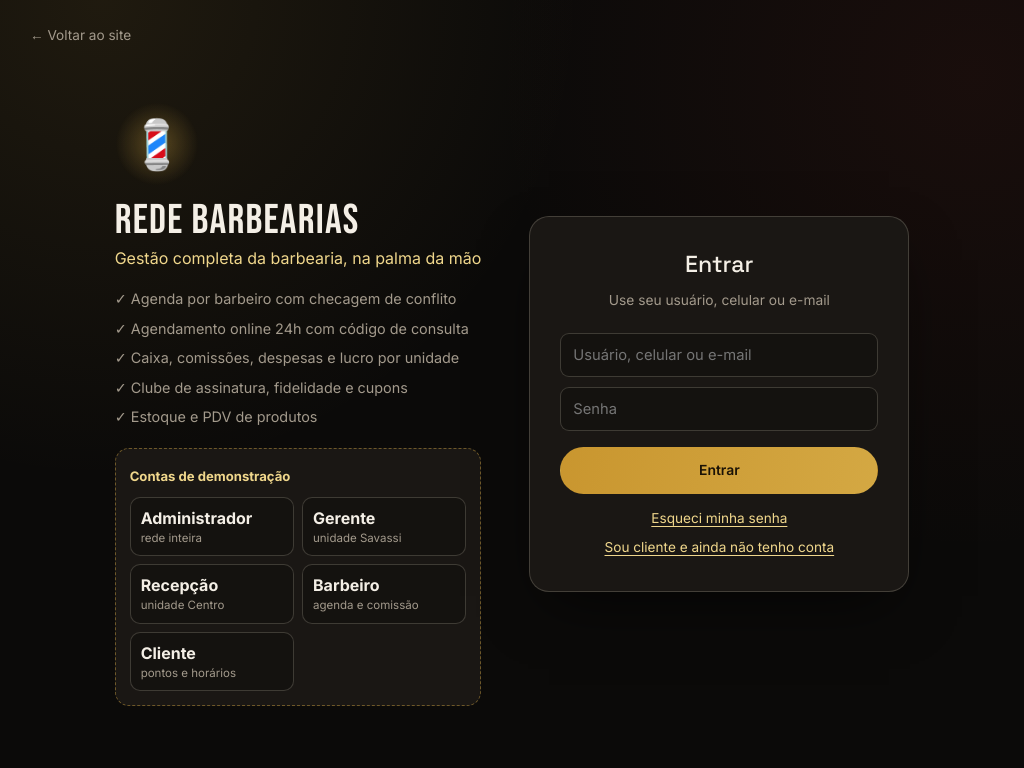
Scenario: Login › mostra contas demo e o erro do servidor
Expected: the text "Contas de demonstração" is shown, [130, 468, 290, 484]
Type "x" into the field with placeholder "Usuário, celular ou e-mail" at (719,355), box [560, 333, 878, 377]
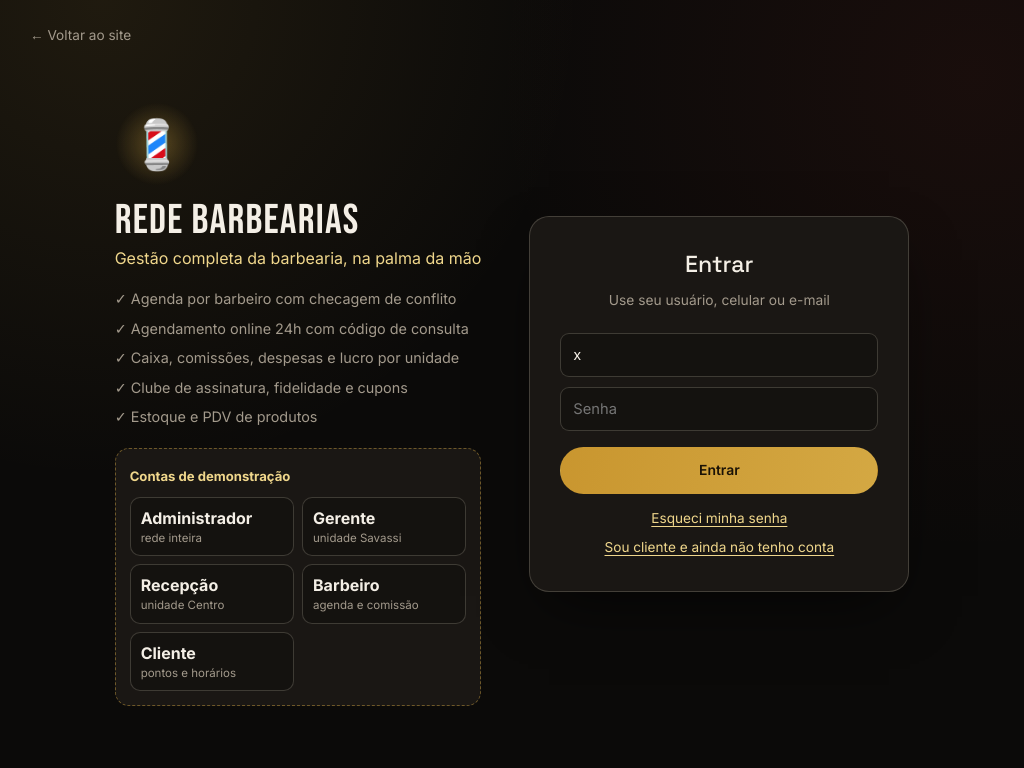
Type "y" into the password field with placeholder "Senha" at (719,409), box [560, 387, 878, 431]
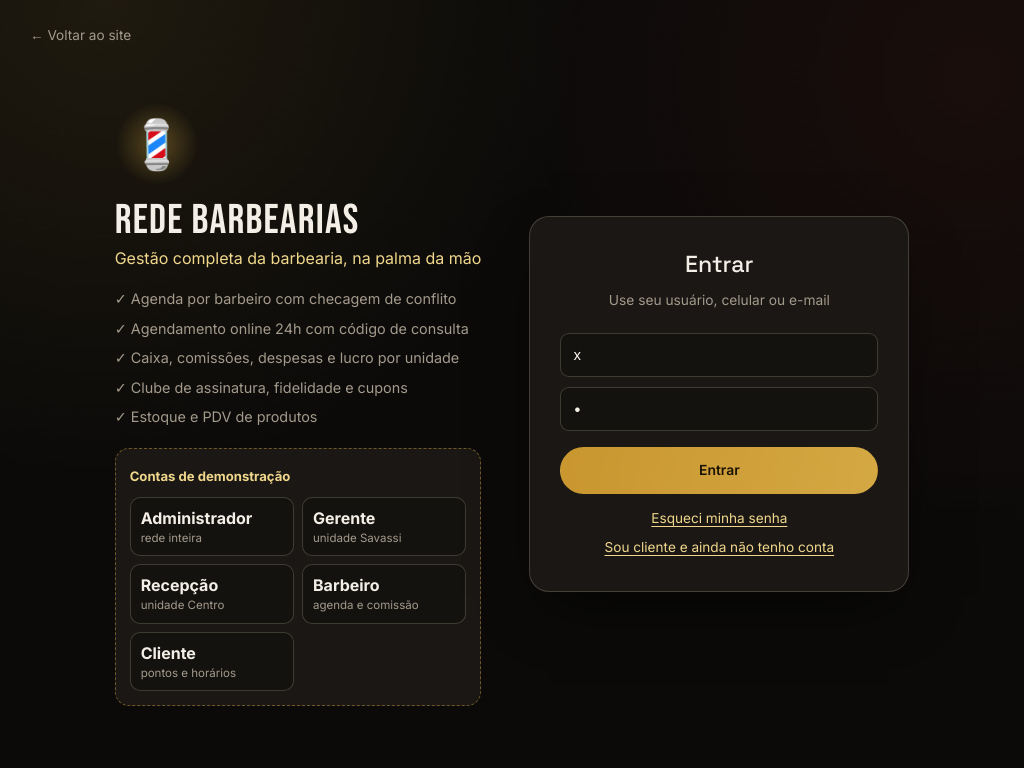
Click the button "Entrar" at (719,471), box [560, 447, 878, 494]
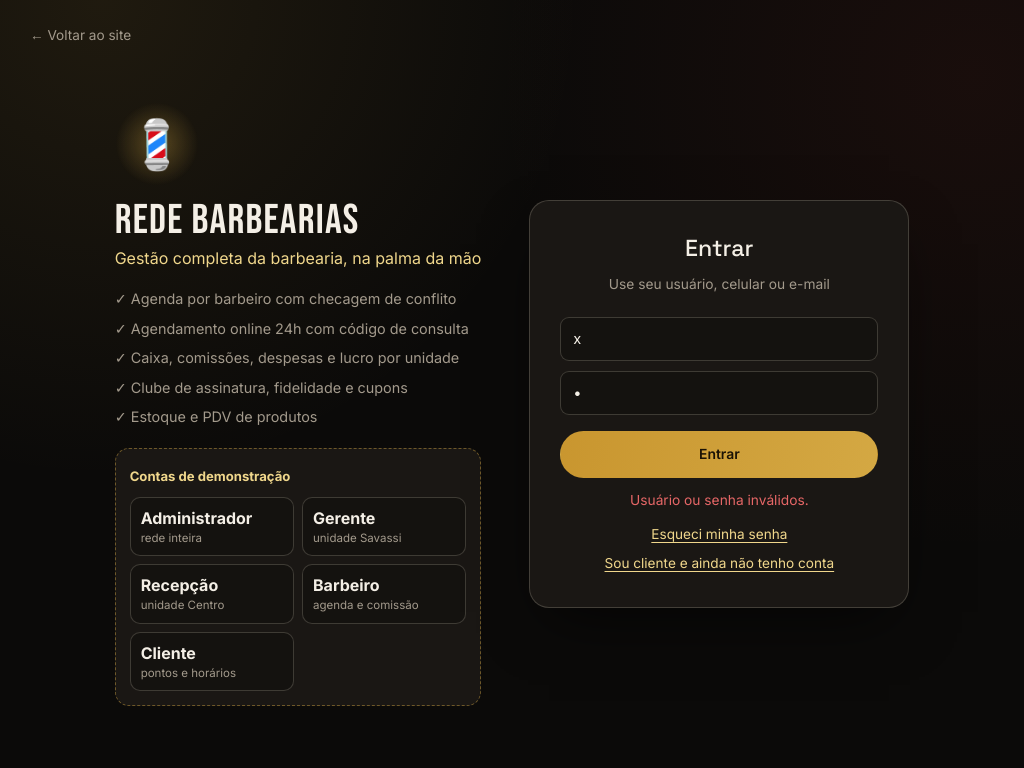
Result: the text "Usuário ou senha inválidos." is shown at [630, 492, 809, 508]
